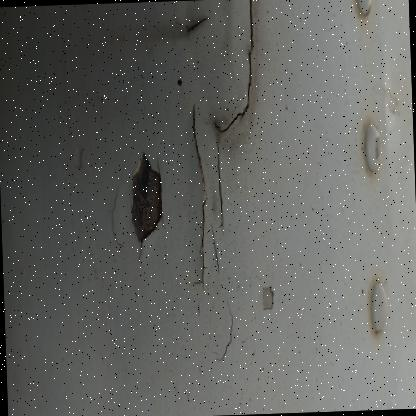Crack: (164, 0, 284, 368), (115, 106, 168, 273)
